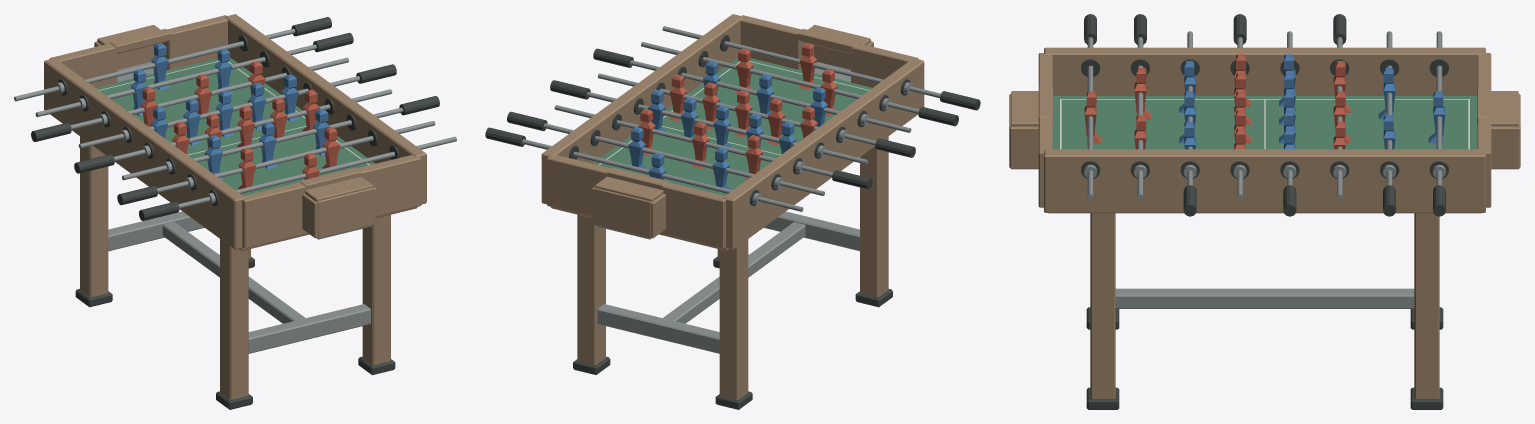
The picture shows the model from 3 angles, left to right: view 1: azimuth 30°, elevation 25°; view 2: azimuth 150°, elevation 25°; view 3: azimuth 270°, elevation 25°; orthographic projection. The views are drawn at different scales.
Parts seen in each view (by area): view 1: Side cabinet wall, Recessed playing field, Side cabinet wall.001, Table leg, Table leg.002, Table leg.001, Goal end cheek, Lower transverse tie, Goal end cheek.001, Lower long tie, Goal end cheek.003, Goal pocket back (+41 smaller); view 2: Side cabinet wall, Recessed playing field, Side cabinet wall.001, Table leg.001, Table leg, Table leg.003, Goal end cheek.002, Lower transverse tie.001, Goal end cheek.003, Lower long tie, Goal end cheek.001, Goal pocket back.001 (+40 smaller); view 3: Side cabinet wall.001, Recessed playing field, Side cabinet wall, Lower long tie, Table leg.002, Table leg.003, Goal pocket side.001, Goal pocket side.003, Goal pocket roof, Goal pocket roof.001, Goal end cheek.001, Goal end cheek.003 (+13 smaller).
Boxes of the visible parts, x1,y1,x2,y2 form: Side cabinet wall: [44, 58, 245, 249]; Recessed playing field: [96, 57, 375, 195]; Side cabinet wall.001: [225, 14, 426, 204]; Table leg: [220, 239, 248, 399]; Table leg.002: [362, 214, 390, 365]; Table leg.001: [80, 136, 108, 297]; Goal end cheek: [242, 182, 306, 248]; Lower transverse tie: [248, 304, 370, 353]; Goal end cheek.001: [356, 155, 421, 216]; Lower long tie: [162, 222, 305, 323]; Goal end cheek.003: [163, 15, 227, 69]; Goal pocket back: [317, 188, 373, 238]; Side cabinet wall: [722, 58, 924, 249]; Recessed playing field: [593, 58, 871, 195]; Side cabinet wall.001: [541, 14, 743, 204]; Table leg.001: [719, 239, 748, 399]; Table leg: [860, 136, 888, 297]; Table leg.003: [577, 214, 605, 365]; Goal end cheek.002: [661, 182, 725, 248]; Lower transverse tie.001: [597, 304, 719, 353]; Goal end cheek.003: [547, 155, 611, 216]; Lower long tie: [663, 222, 805, 323]; Goal end cheek.001: [740, 15, 804, 69]; Goal pocket back.001: [594, 188, 651, 238]; Side cabinet wall.001: [1044, 149, 1485, 212]; Recessed playing field: [1052, 96, 1477, 149]; Side cabinet wall: [1044, 47, 1485, 95]; Lower long tie: [1115, 288, 1414, 308]; Table leg.002: [1090, 213, 1115, 398]; Table leg.003: [1414, 213, 1439, 398]; Goal pocket side.001: [1010, 126, 1038, 168]; Goal pocket side.003: [1491, 126, 1519, 168]; Goal pocket roof: [1011, 91, 1038, 126]; Goal pocket roof.001: [1491, 91, 1518, 126]; Goal end cheek.001: [1038, 118, 1052, 207]; Goal end cheek.003: [1477, 118, 1491, 207].
Size of the model in its own units: 1.45 by 0.96 by 1.64.
